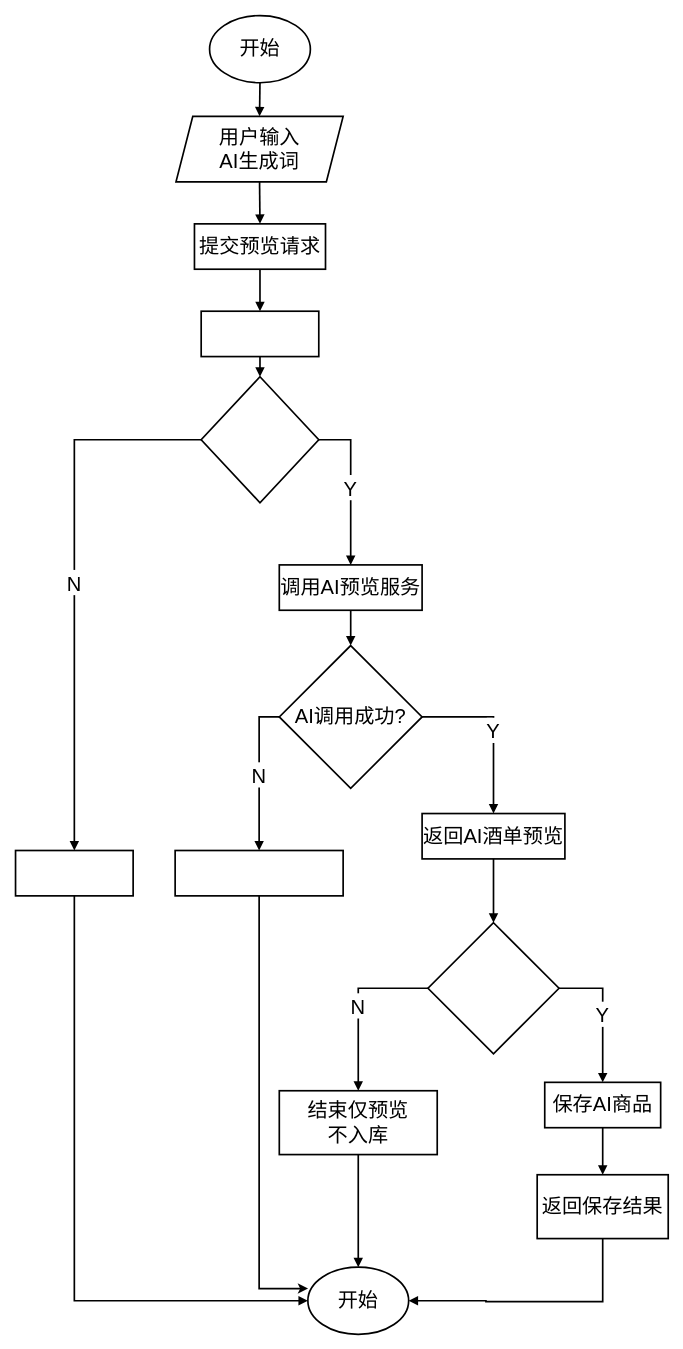
This 683x1349 diagram has some shape labels left out. The shapes that lost their labels are listed below. From the top down, each one's centre as x and y in pixels, then its label:
At (x=259, y=333): "校验登录态".
At (x=259, y=439): "登录有效?".
At (x=74, y=872): "返回未授权".
At (x=259, y=872): "返回生成失败提示".
At (x=493, y=987): "用户确认 保存?".
